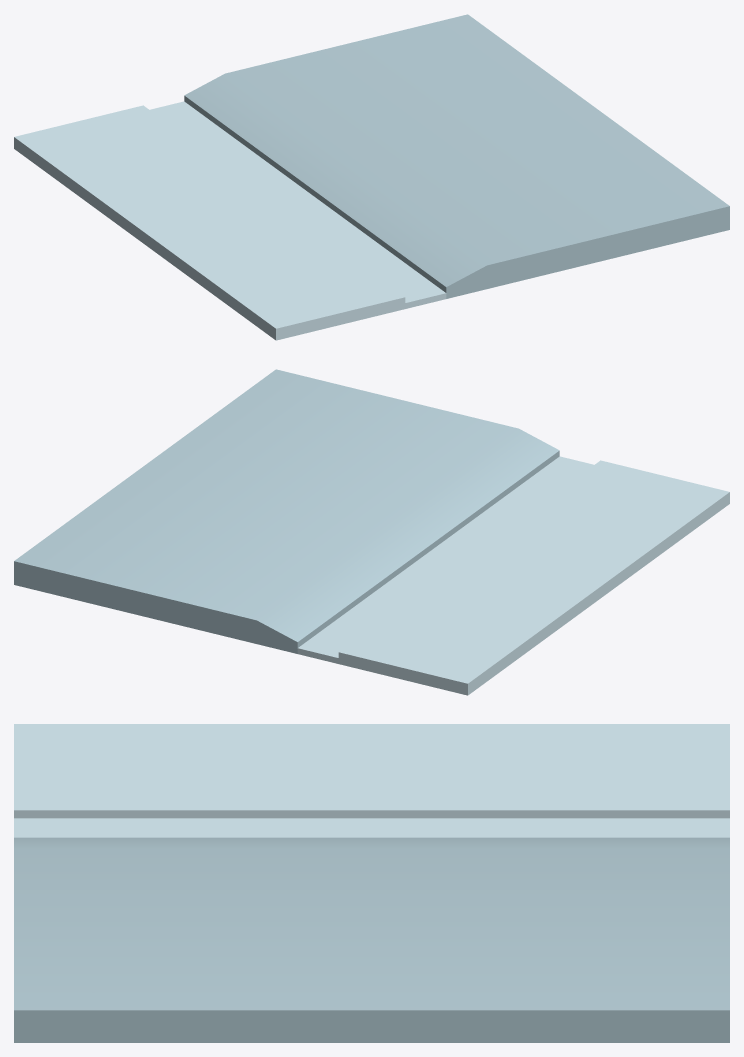
3 views of the same model, one above another, from view 1: azimuth 30°, elevation 25°; view 2: azimuth 150°, elevation 25°; view 3: azimuth 270°, elevation 25° (orthographic). The views are drawn at different scales.
Visible parts, largest first — view 1: roadEdge; view 2: roadEdge; view 3: roadEdge.
Part boxes in pixels (left/top/right/bottom): roadEdge: left=14, top=14, right=729, bottom=340; roadEdge: left=14, top=369, right=729, bottom=695; roadEdge: left=14, top=724, right=729, bottom=1042.
Size of the model in its own units: 1 by 0.05 by 1.
